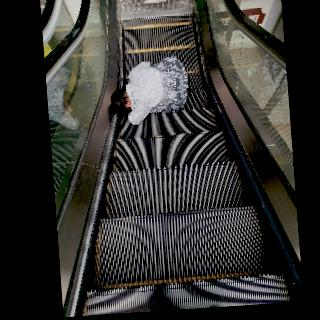anomaly: (104, 53, 195, 128)
